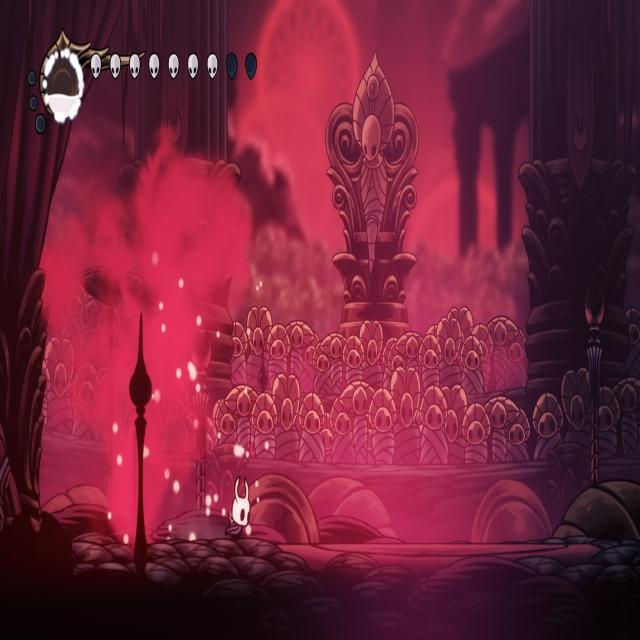Player: (224, 468, 256, 544)
